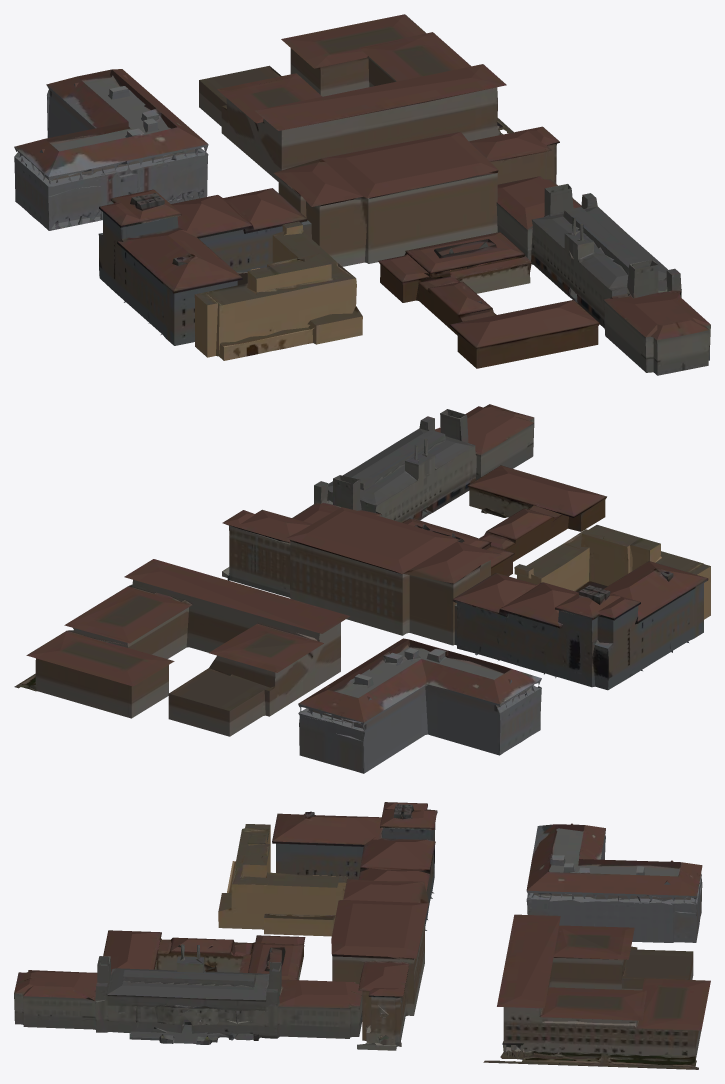
File: t_0_-2.coat.glb
3 views of the same model, one above another, from view 1: azimuth 30°, elevation 25°; view 2: azimuth 150°, elevation 25°; view 3: azimuth 270°, elevation 25° (orthographic). The views are drawn at different scales.
Visible parts, largest first — view 1: far; view 2: far; view 3: far.
Boxes of the visible parts, x1=… form: far: x1=14, y1=14, x2=710, y2=375; far: x1=14, y1=404, x2=710, y2=773; far: x1=14, y1=802, x2=710, y2=1069.
Bounding box in the file's own units: 209 × 35.23 × 297.
Materials: 1 (1 with a texture image).
